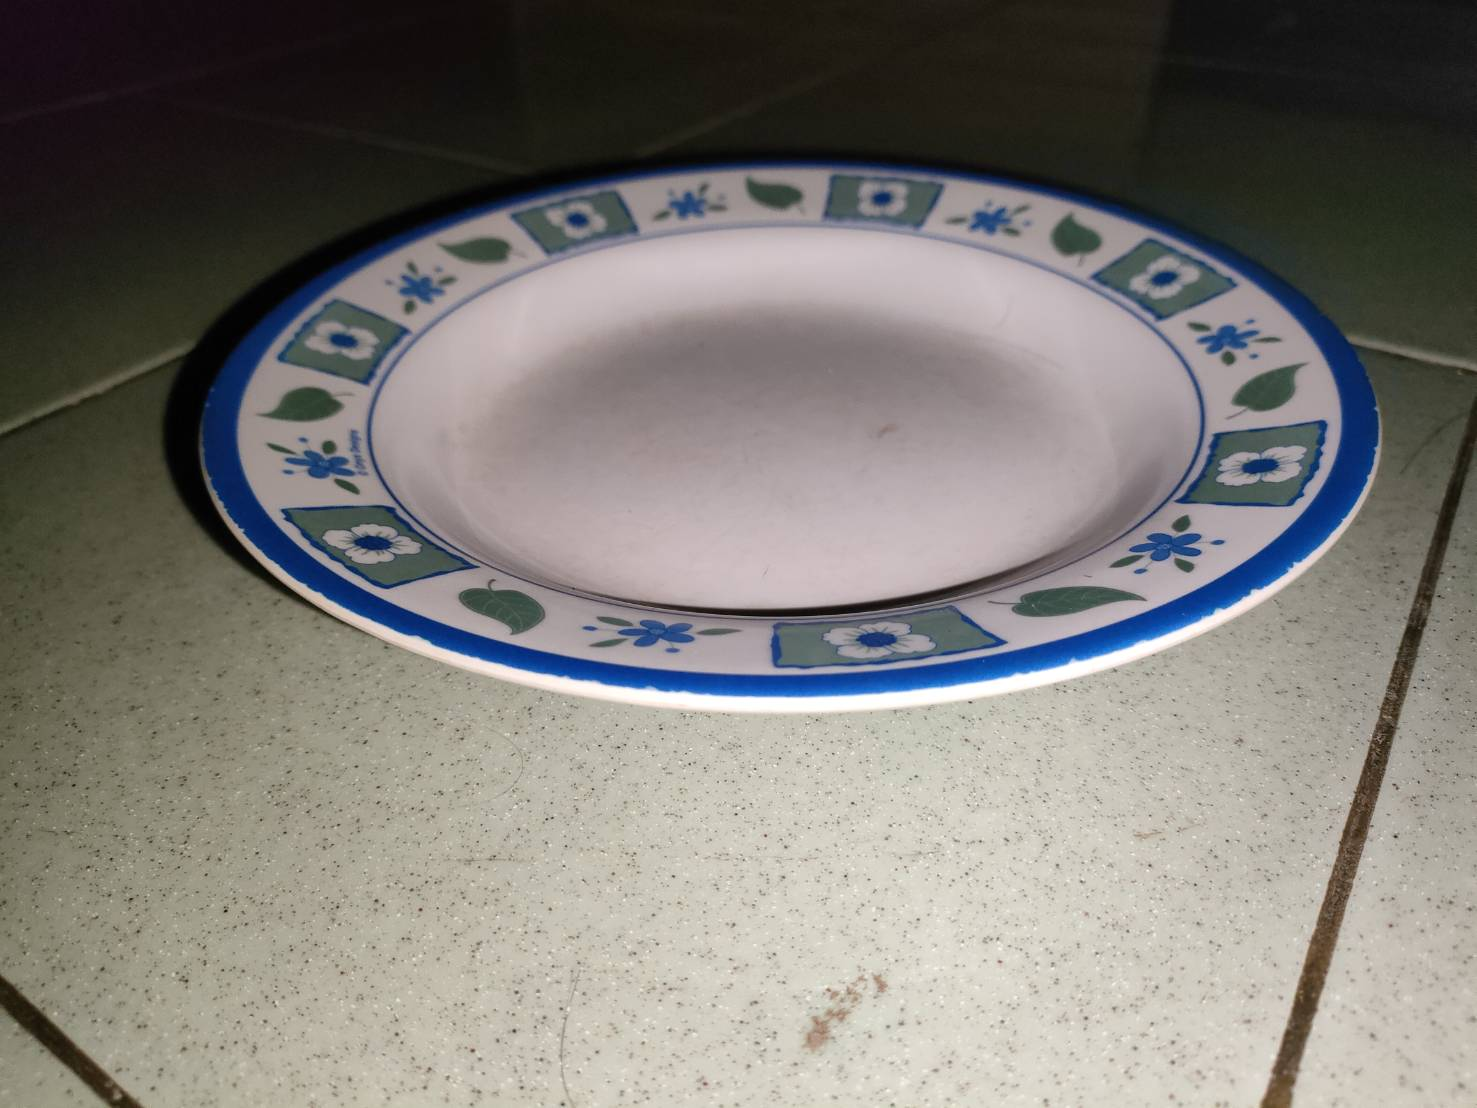piring: (197, 168, 1378, 698)
